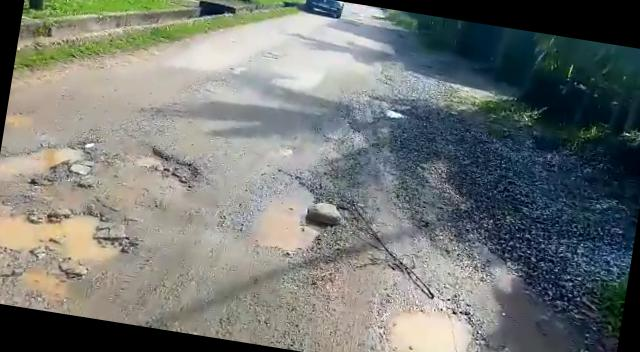pothole: (0, 196, 141, 270), (241, 174, 330, 256), (0, 123, 102, 192), (377, 299, 482, 352), (133, 143, 202, 193)
